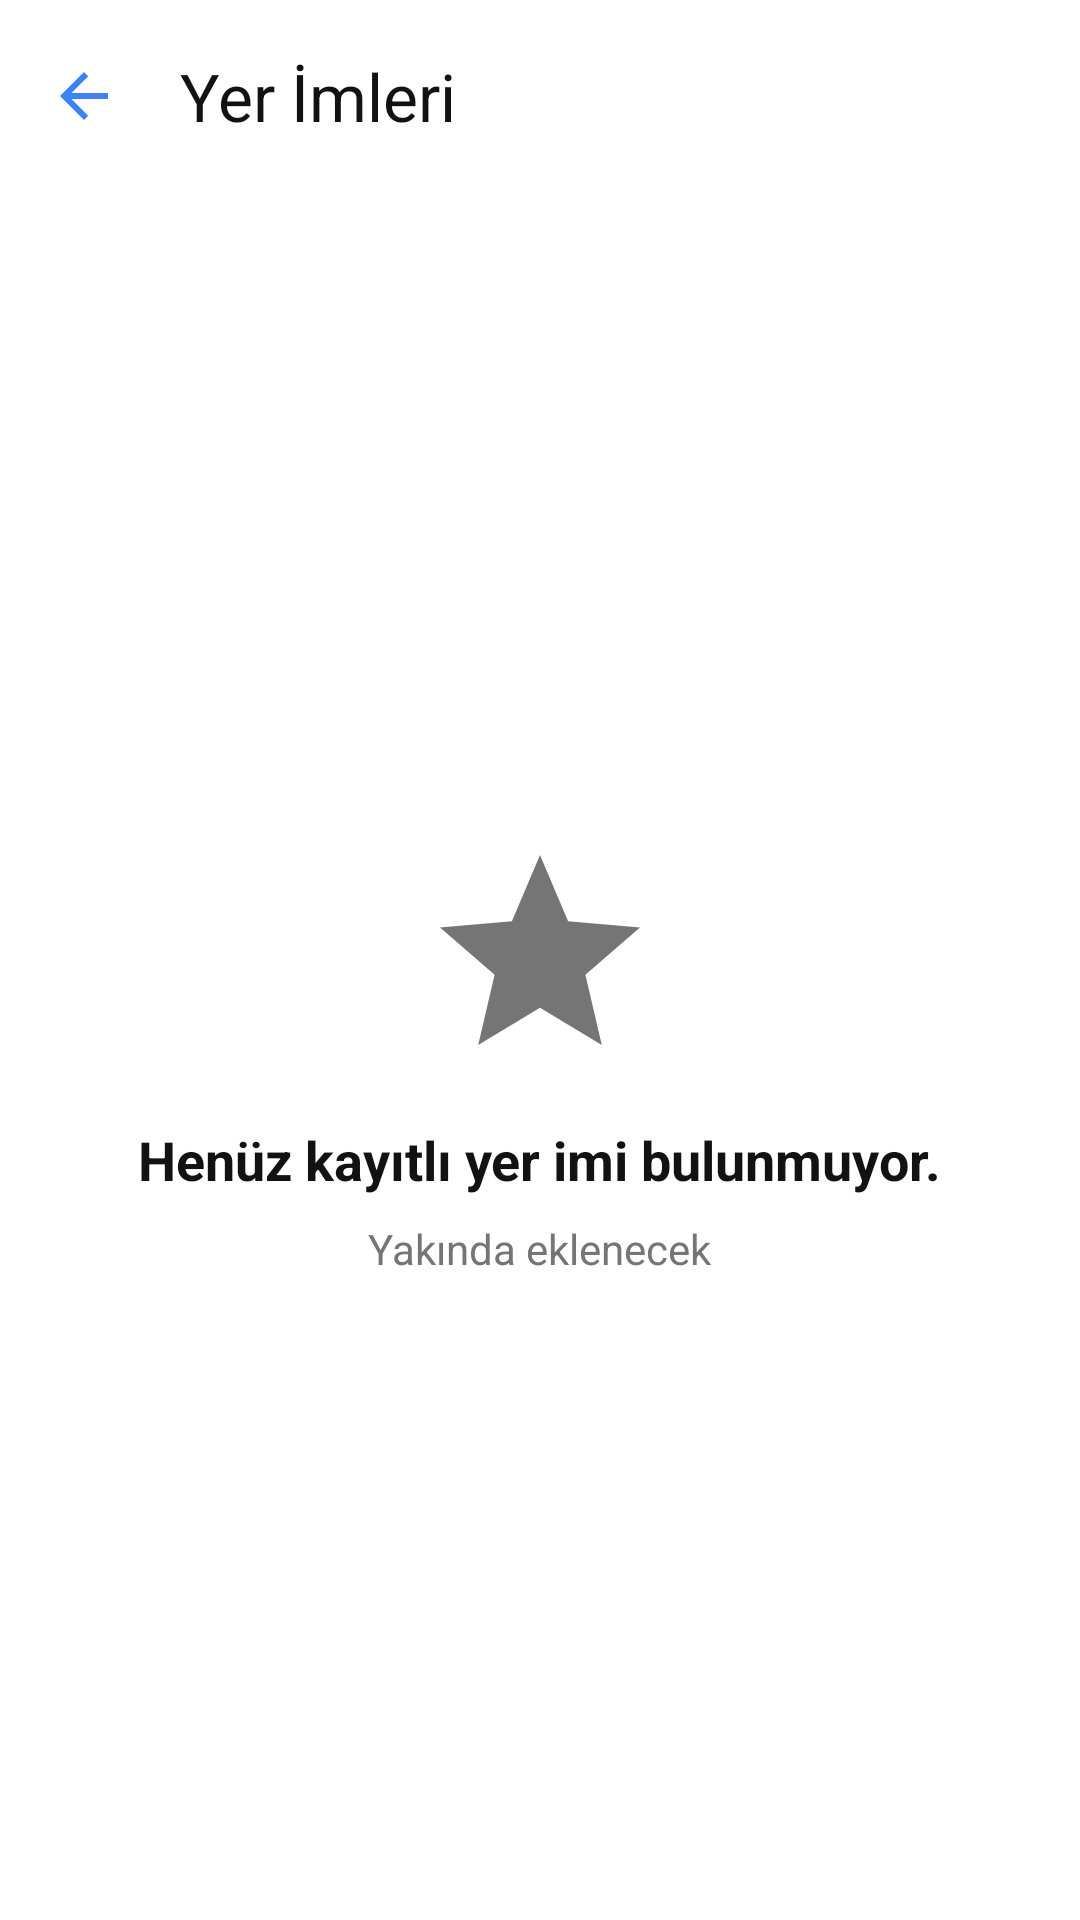

Screen size 1080px x 1920px. Icon name, then its box in pixels as (x1, y1, x2, y2):
bookmarks: (440, 855, 640, 1045)
